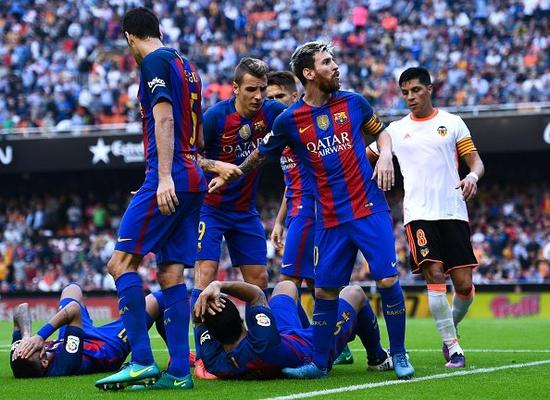10+: (1, 3, 550, 400)
down: (190, 260, 398, 395), (1, 270, 178, 376)
